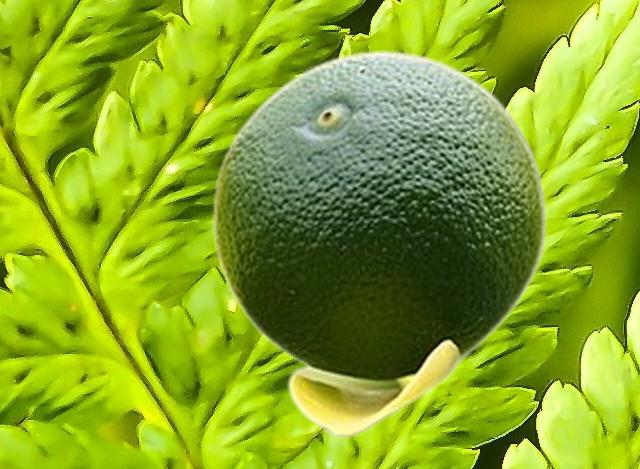calamansi: (212, 50, 546, 437)
